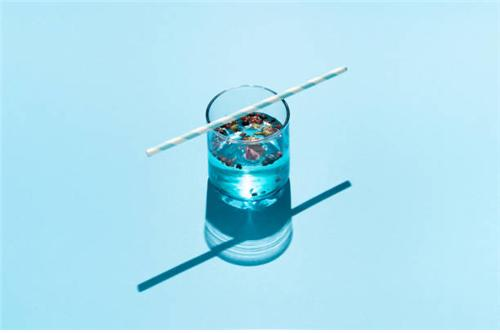alcohol: (206, 83, 295, 266)
